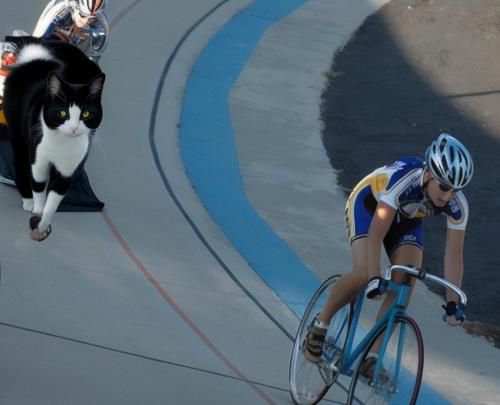bicycle: (287, 263, 474, 405), (1, 170, 61, 241)
cat: (2, 36, 108, 212)
person: (303, 132, 475, 387), (1, 29, 69, 238), (29, 2, 111, 129)
person/foot: (357, 356, 391, 384), (303, 326, 328, 364)
person/hand: (27, 217, 51, 242), (365, 277, 387, 302), (447, 301, 464, 325), (88, 88, 102, 110)
person/head: (1, 44, 47, 110), (423, 142, 468, 207), (72, 1, 107, 28)
